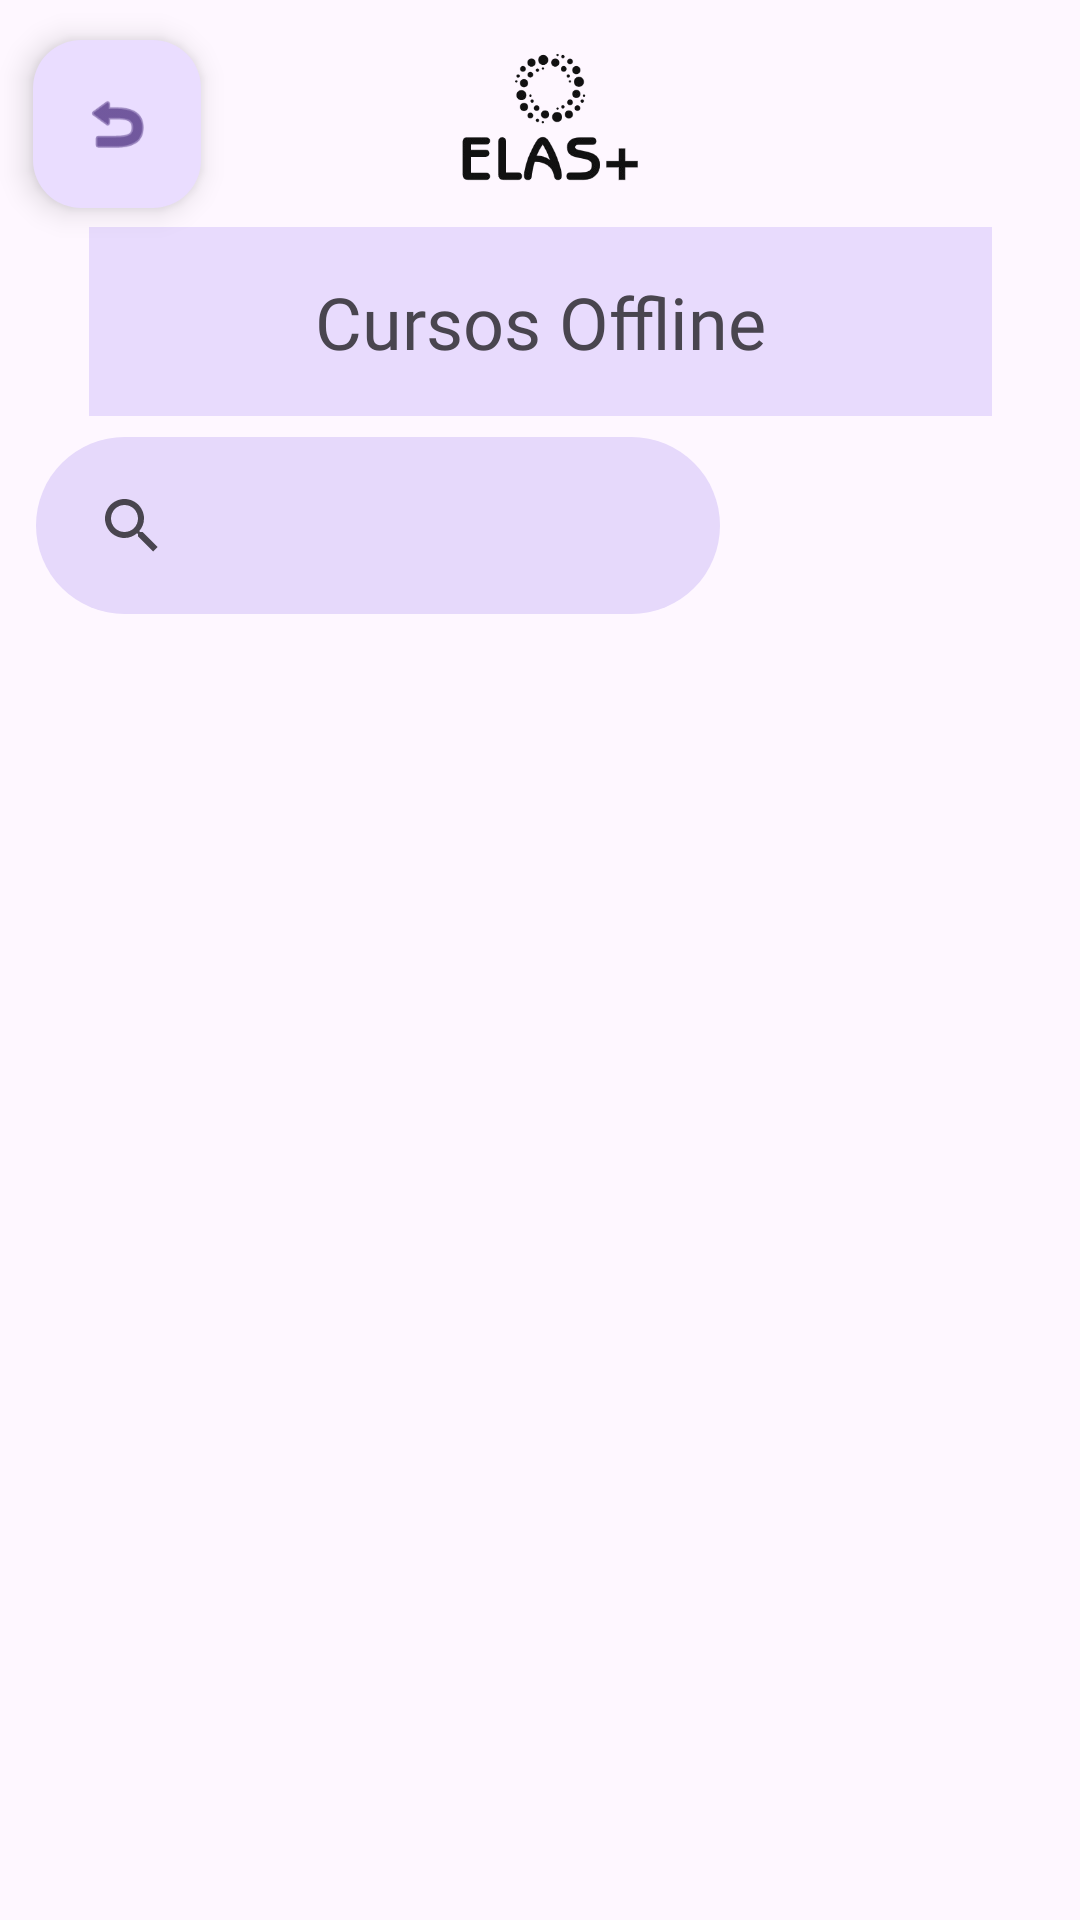

Icon click points for this 1080 × 1920 phone screenshot, format point (x, y):
revert: point (118, 124)
